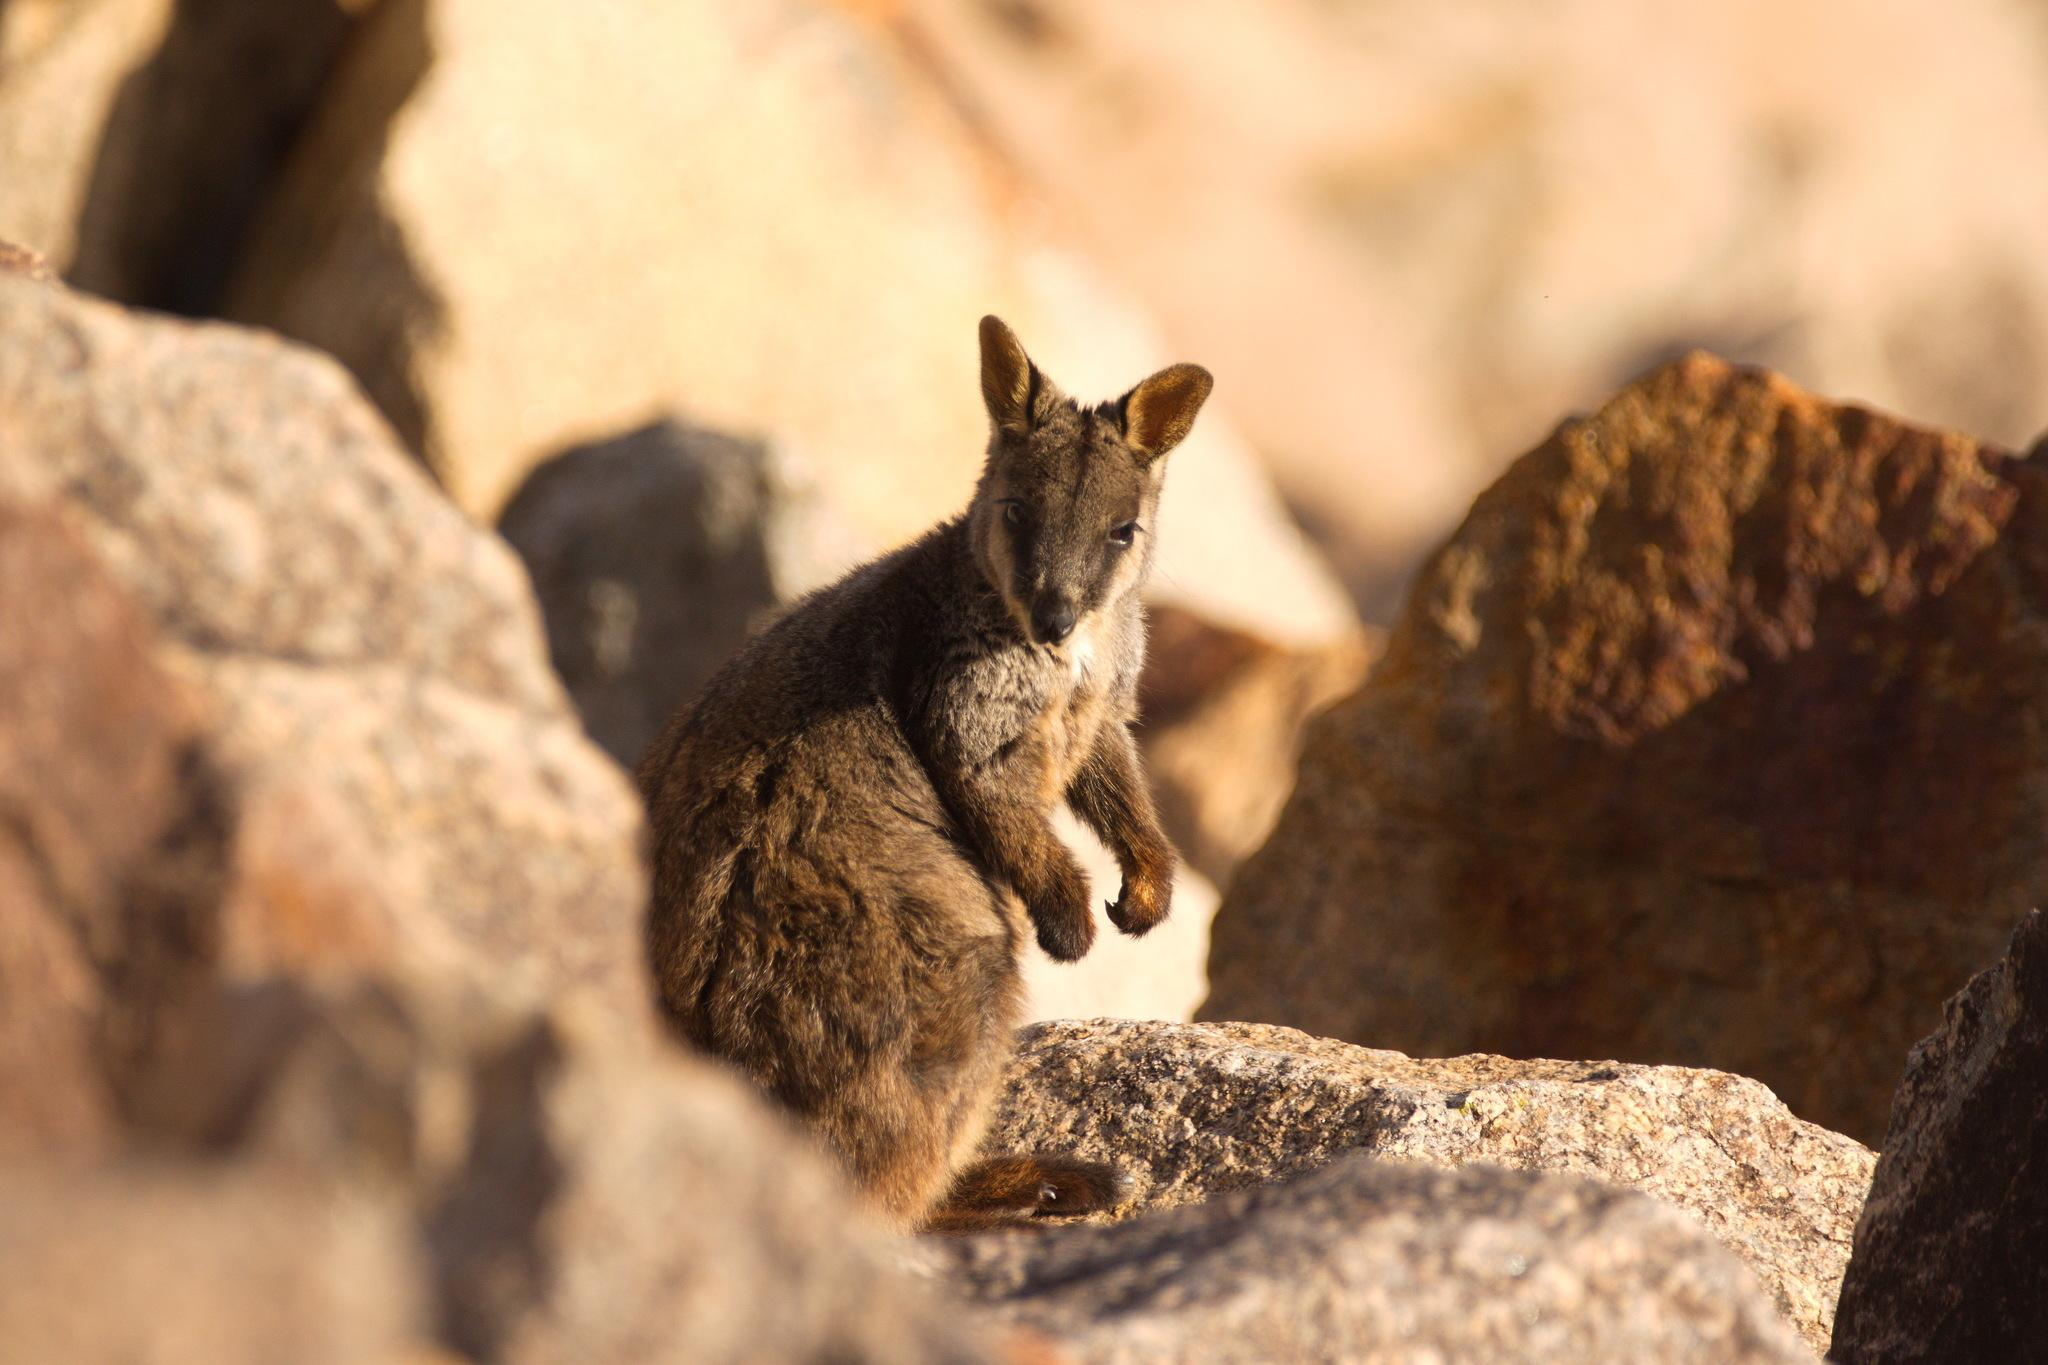Brush-tailed rock-wallaby: (620, 309, 1227, 1239)
